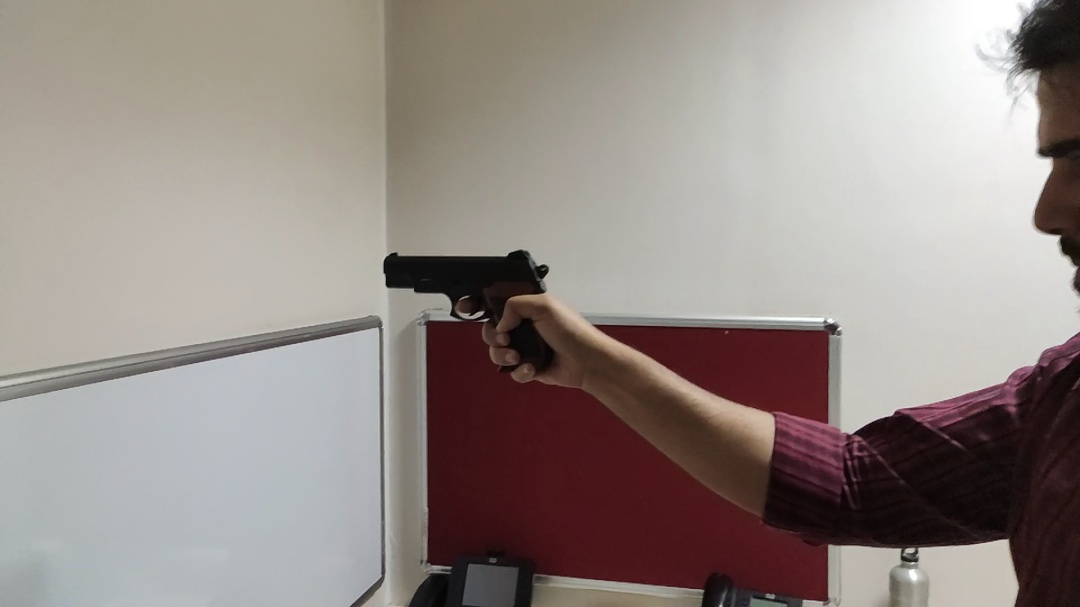gun: (381, 249, 563, 375)
